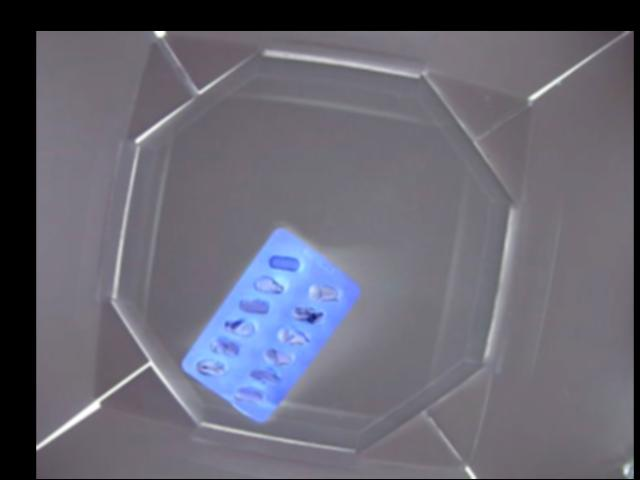Medicine: (180, 226, 359, 423)
